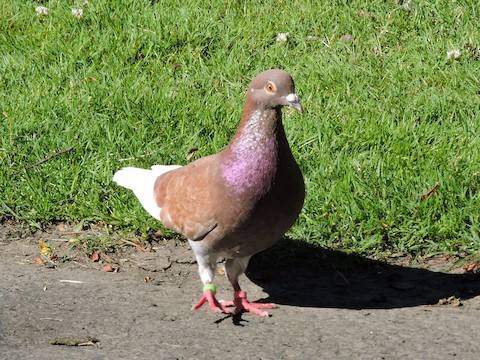pigeon: (106, 66, 312, 324)
